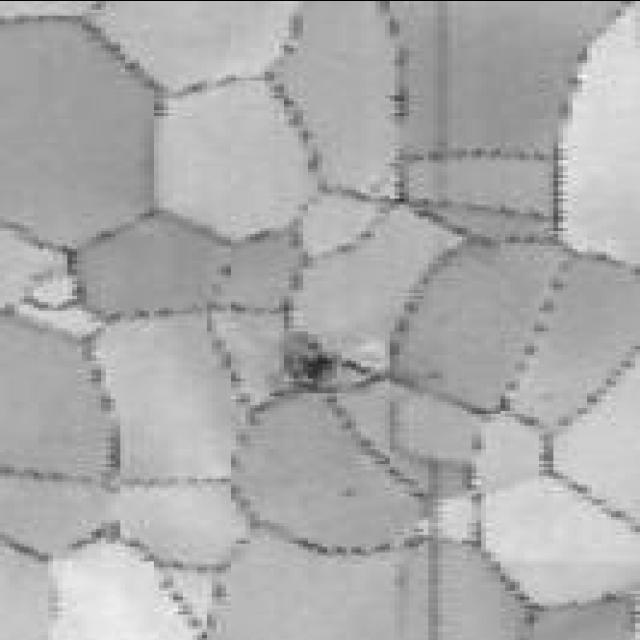good_void: (270, 331, 358, 406)
